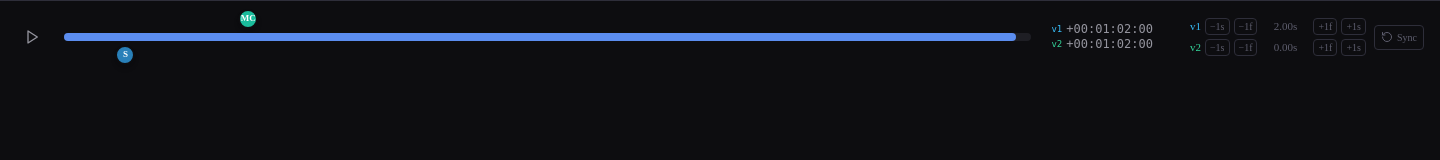
Test: elapsed / remaining timecode › never shows negative remaining past a shorter side’s end
The width and height of the screenshot is (1440, 160).
Click the button with test id "timecode-readout" at (1102, 37), box [1047,20,1157,54]
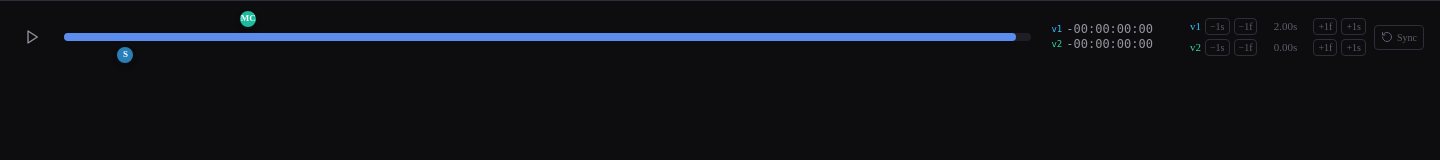
Expected: the element with test id "timecode-b" shows "-00:00:00:00", [1051,37,1153,52]
